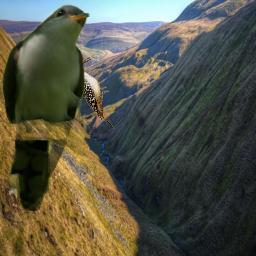Cuckoo: (1, 4, 90, 211)
Woodpecker: (70, 56, 114, 130)
